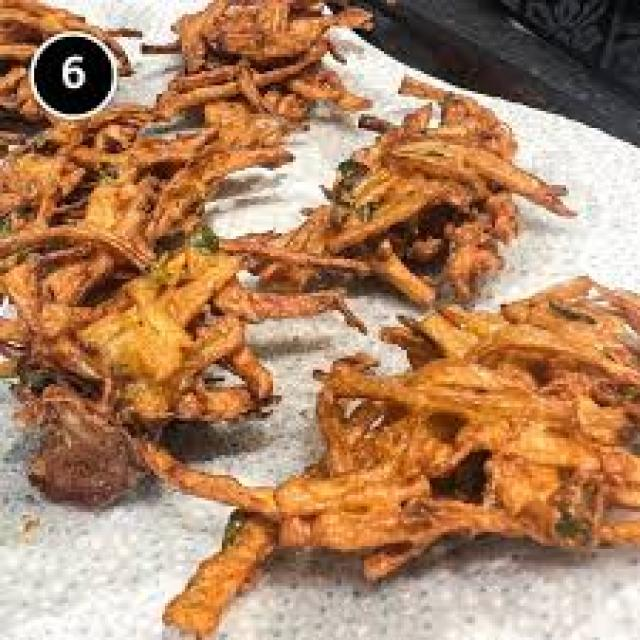BAJI: (133, 285, 635, 629), (0, 110, 265, 506), (269, 93, 519, 291), (164, 7, 340, 198)
